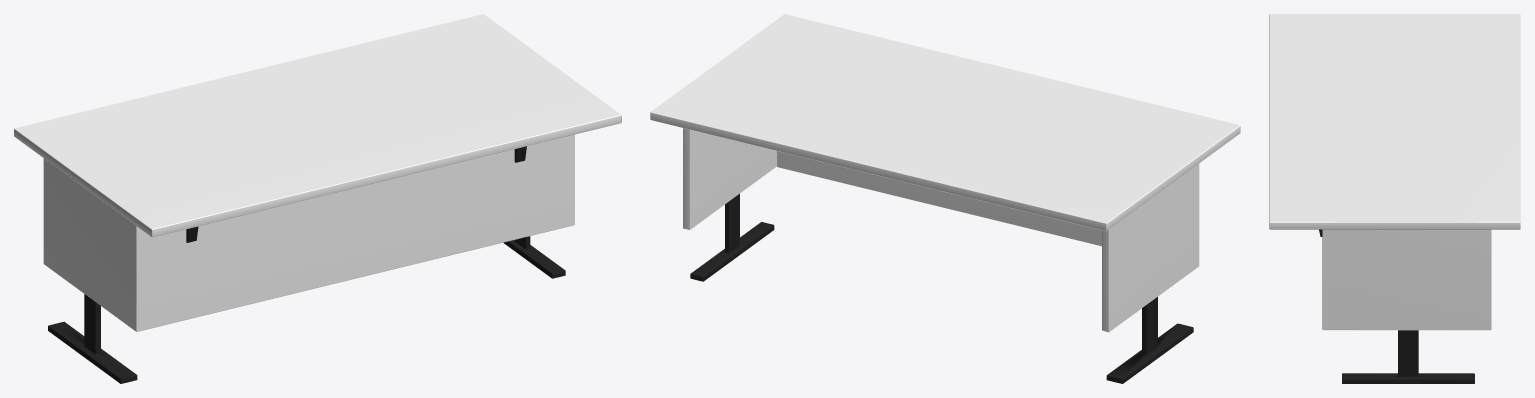
File: cabin_table.fbx
The picture shows the model from 3 angles, left to right: view 1: azimuth 30°, elevation 25°; view 2: azimuth 150°, elevation 25°; view 3: azimuth 270°, elevation 25°; orthographic projection. The views are drawn at different scales.
Visible parts, largest first — view 1: table_white, table_steel; view 2: table_white, table_steel; view 3: table_white, table_steel.
Boxes of the visible parts, x1=… form: table_white: x1=14, y1=14, x2=621, y2=331; table_steel: x1=48, y1=146, x2=565, y2=383; table_white: x1=650, y1=14, x2=1240, y2=332; table_steel: x1=690, y1=193, x2=1193, y2=383; table_white: x1=1269, y1=14, x2=1520, y2=330; table_steel: x1=1319, y1=229, x2=1474, y2=383.
Size of the model in its own units: 192 by 72.42 by 97.68.
Materials: 1 (1 with a texture image).
